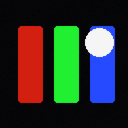2 circle: (85, 28, 113, 56)
